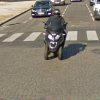Motorcycle: (32, 12, 82, 81)
